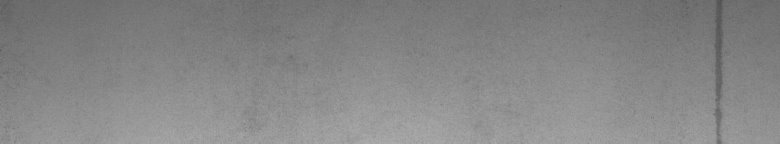hd: (712, 4, 727, 136)
